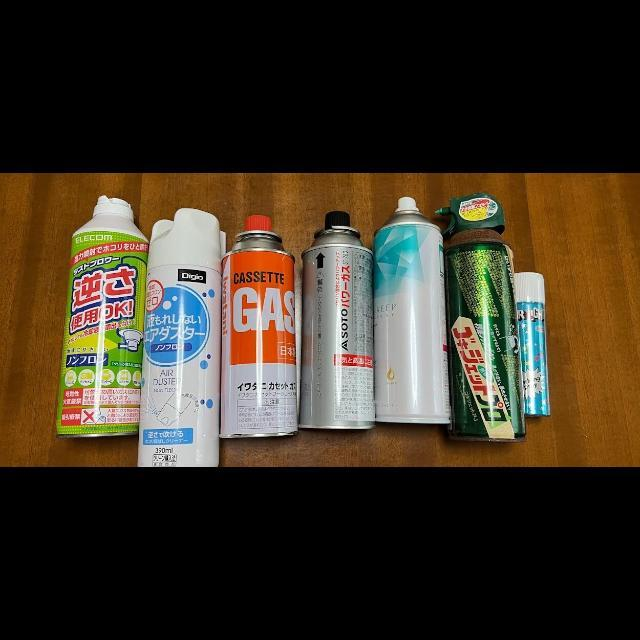chemical_spray_can: (137, 207, 225, 467), (437, 191, 527, 443), (56, 195, 148, 438), (374, 196, 451, 424), (220, 214, 297, 438), (299, 210, 375, 429), (516, 272, 551, 416)
